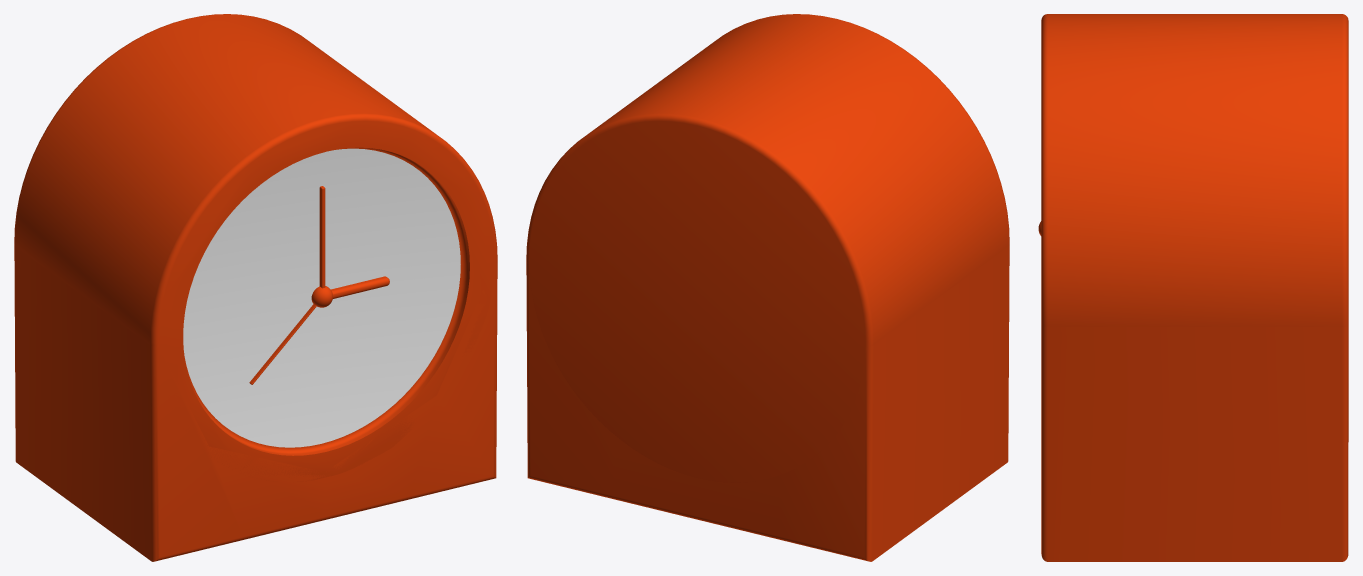
Rendered from clock_2.glb.
3 views of the same model, side by side, from view 1: azimuth 30°, elevation 25°; view 2: azimuth 150°, elevation 25°; view 3: azimuth 270°, elevation 25° (orthographic). The views are drawn at different scales.
Parts seen in each view (by area): view 1: Cylinder.013; view 2: Cylinder.013; view 3: Cylinder.013.
Part boxes in pixels (x1=…): Cylinder.013: x1=14, y1=14, x2=497, y2=561; Cylinder.013: x1=526, y1=14, x2=1009, y2=561; Cylinder.013: x1=1038, y1=14, x2=1348, y2=561.
Bounding box in the file's own units: 20.29 × 22.46 × 14.46.
